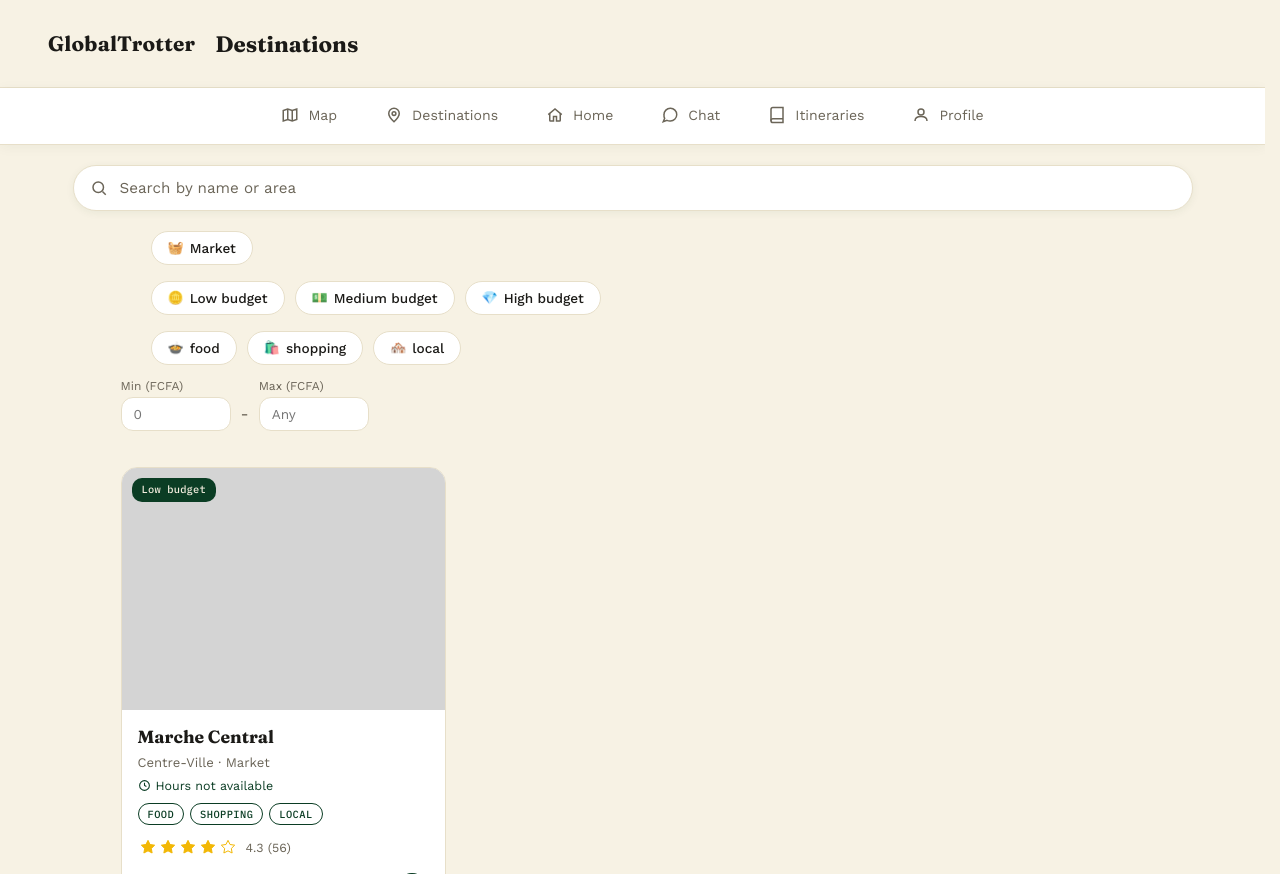
Test: Destinations › submits a rating when logged in
Expected: the heading "Marche Central" is shown, left=138, top=726, right=274, bottom=748
Click the button named "rate 5 stars": click(228, 848) left=218, top=838, right=238, bottom=858
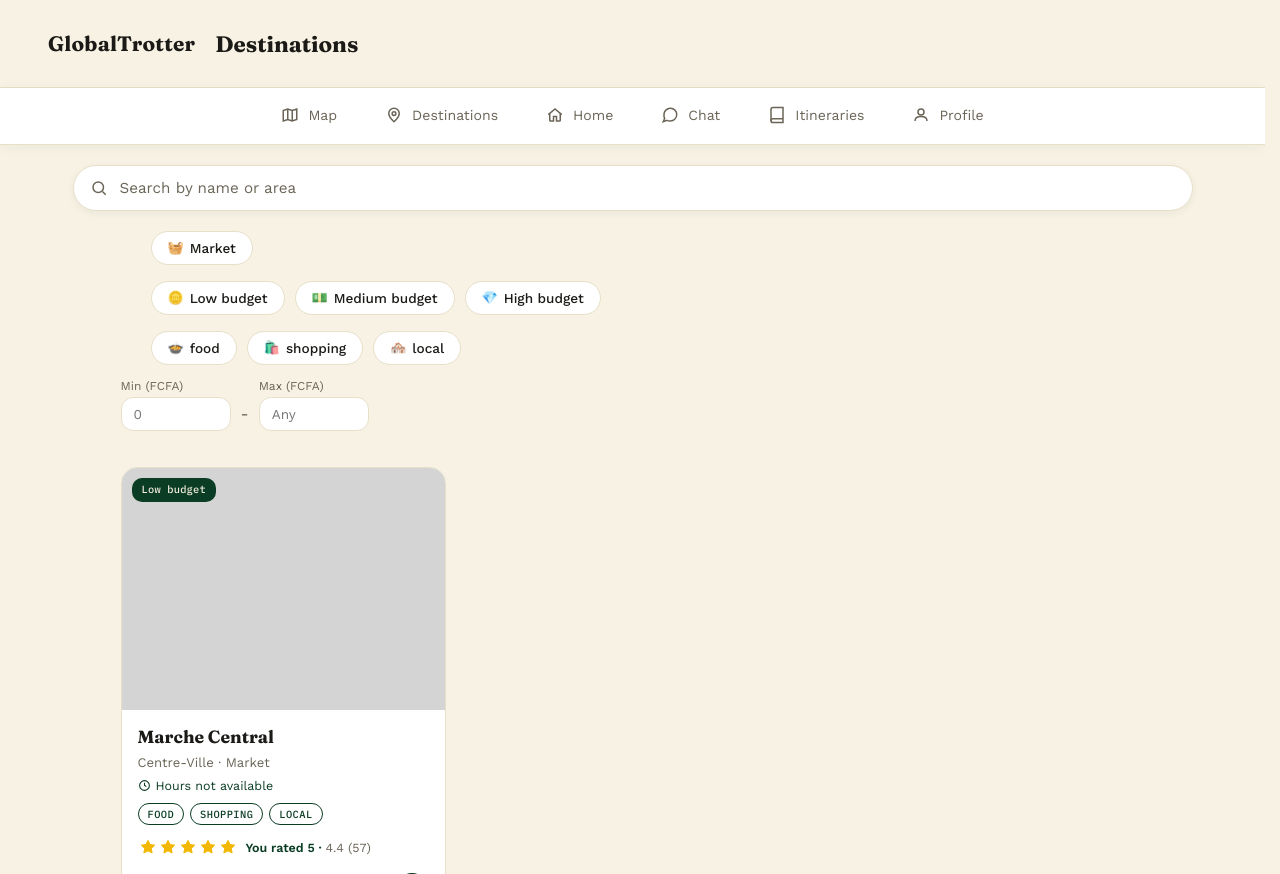
Expected: the text "You rated 5 · 4.4 (57)" is shown, left=246, top=840, right=371, bottom=855
